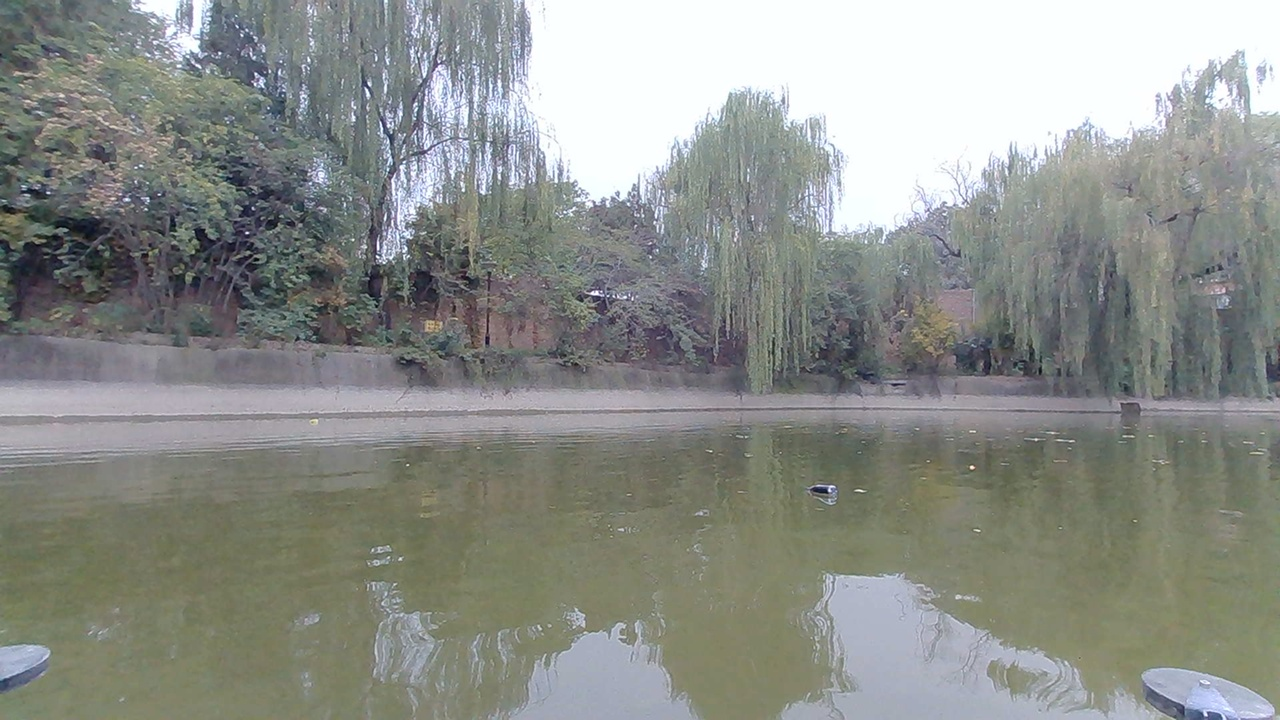bottle: (812, 480, 840, 506)
